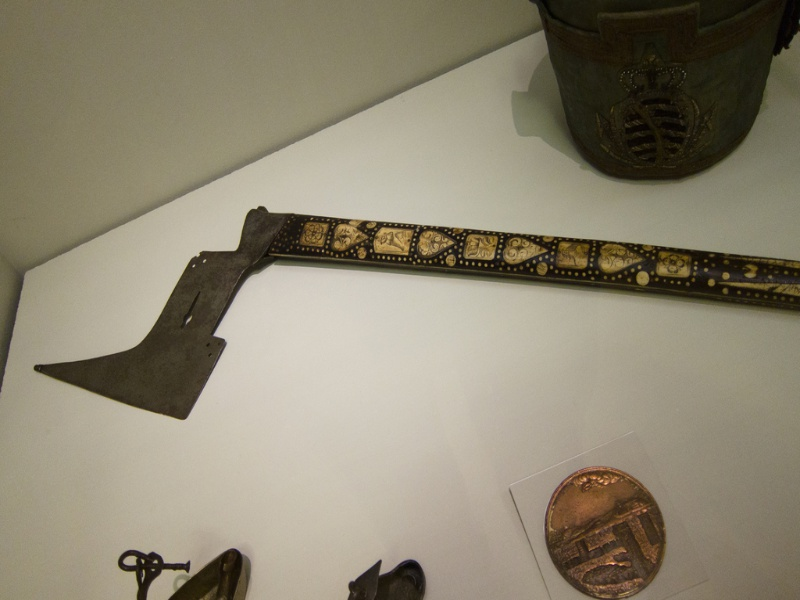axe: (16, 192, 798, 428)
